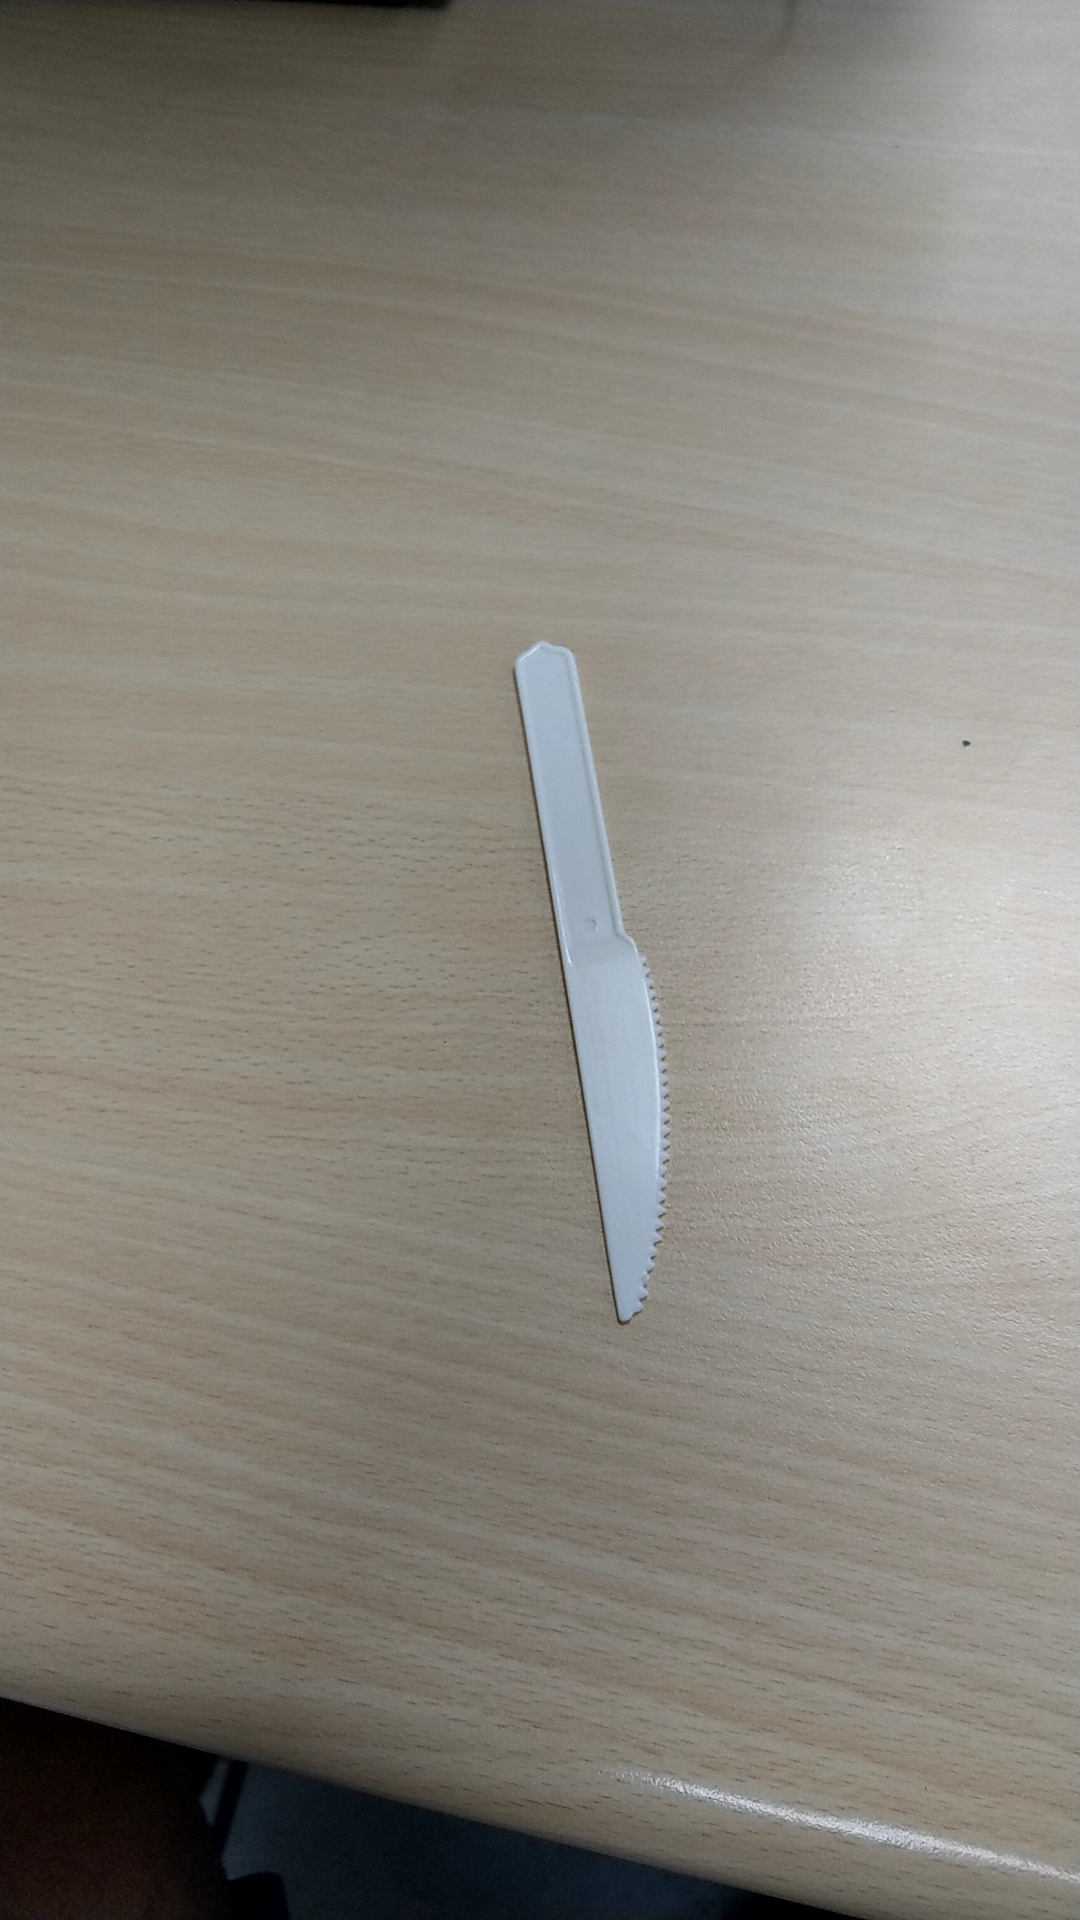knife: (484, 611, 716, 1350)
